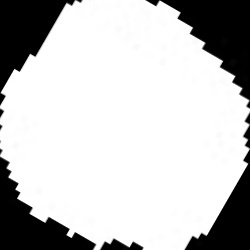spot: (3, 2, 249, 248)
